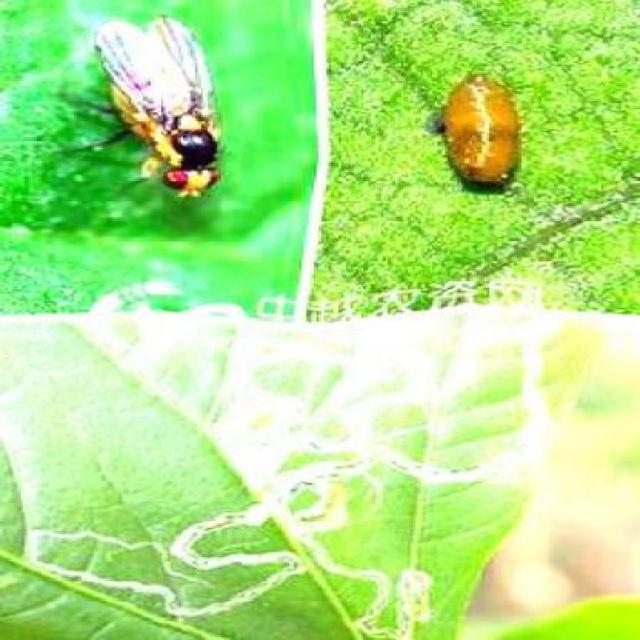whorl-maggot: (432, 66, 536, 199)
